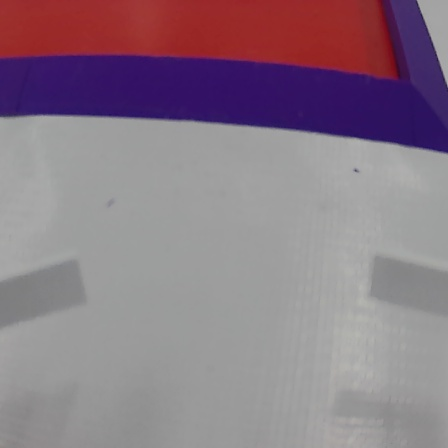red_aim: (0, 0, 446, 164)
